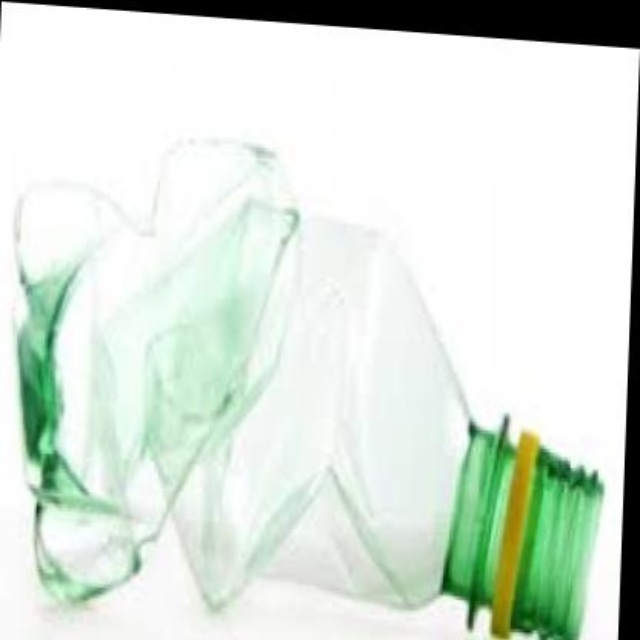trash: (2, 140, 468, 638), (512, 448, 602, 638), (514, 452, 602, 638), (443, 415, 514, 625)
